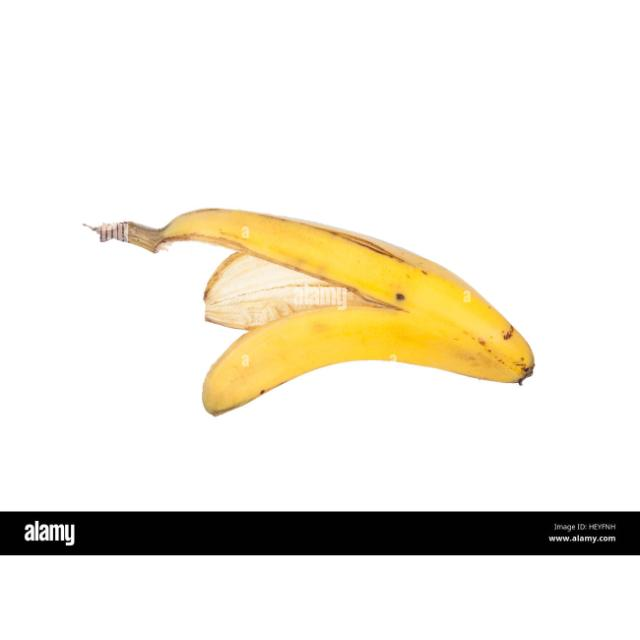organic: (83, 208, 536, 418)
